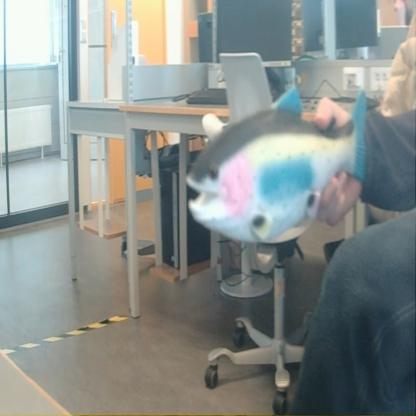rubberfish: (184, 81, 374, 247)
